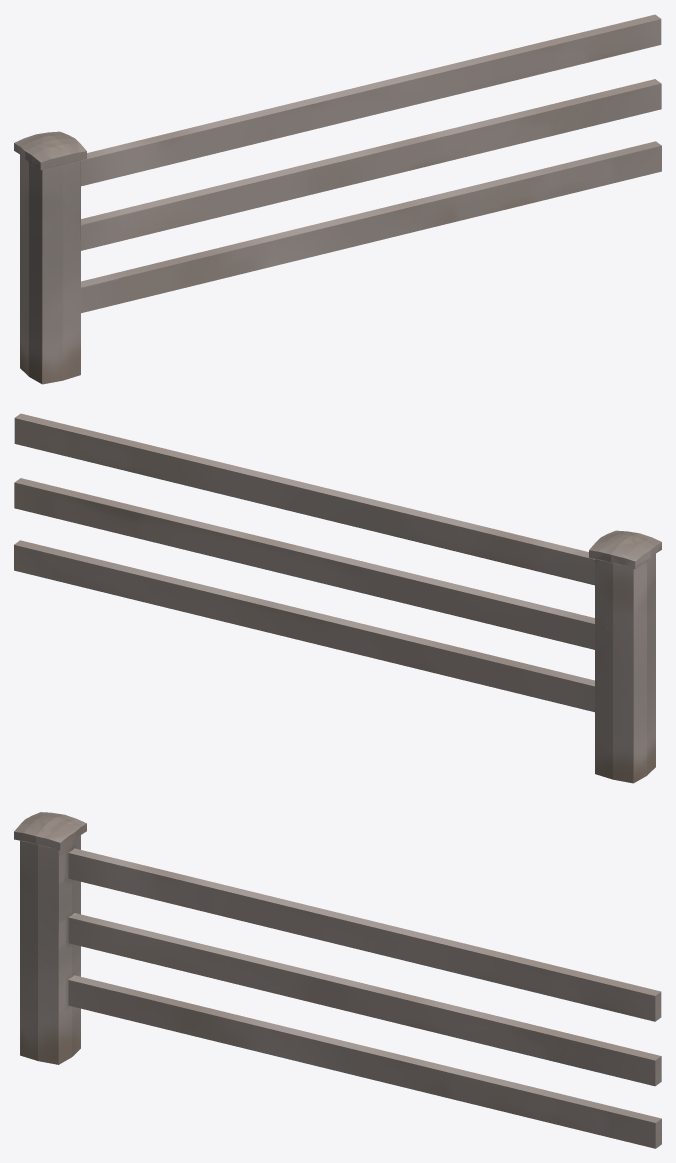
The model's file is fence.obj.
The picture shows the model from 3 angles, top to bottom: view 1: azimuth 30°, elevation 25°; view 2: azimuth 150°, elevation 25°; view 3: azimuth 330°, elevation 25°; orthographic projection.
Parts seen in each view (by area): view 1: Cube_Cube.001; view 2: Cube_Cube.001; view 3: Cube_Cube.001.
Part boxes in pixels (bbox=[...]): Cube_Cube.001: bbox=[14, 14, 661, 384]; Cube_Cube.001: bbox=[14, 413, 661, 783]; Cube_Cube.001: bbox=[14, 812, 661, 1148].
Size of the model in its own units: 14.78 by 5.15 by 1.18.
